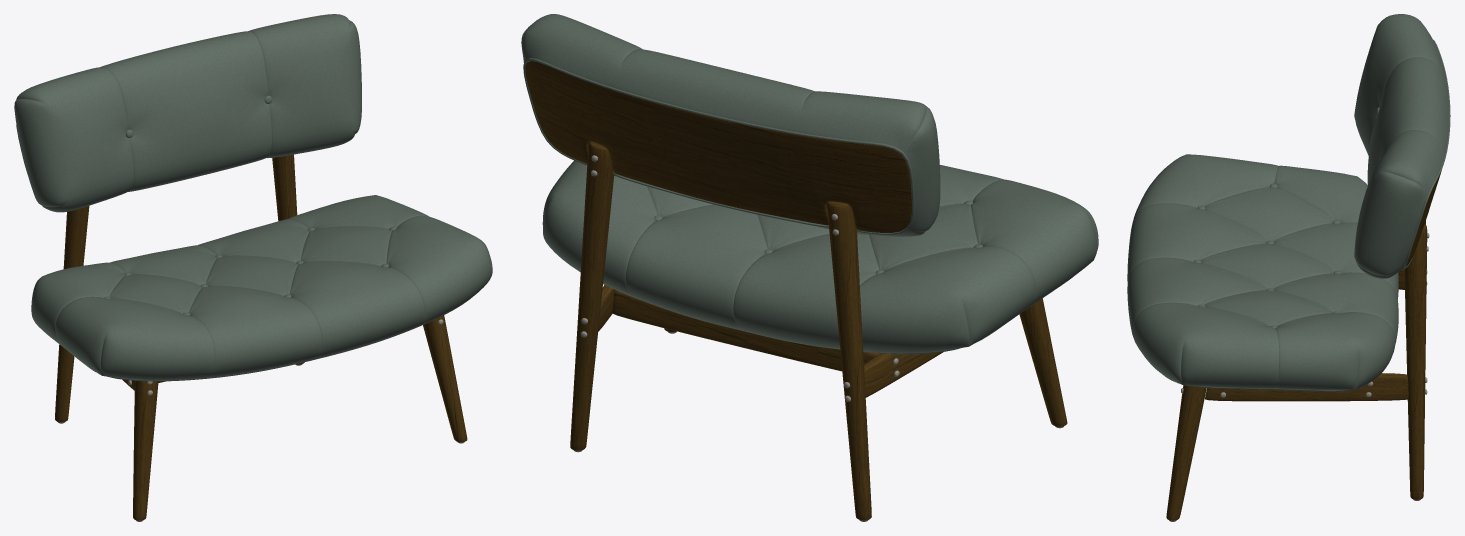
File: upholstered-chair.glb
3 views of the same model, side by side, from view 1: azimuth 30°, elevation 25°; view 2: azimuth 150°, elevation 25°; view 3: azimuth 270°, elevation 25° (orthographic). The views are drawn at different scales.
Parts seen in each view (by area): view 1: SheenChair_fabric, SheenChair_wood; view 2: SheenChair_fabric, SheenChair_wood; view 3: SheenChair_fabric, SheenChair_wood.
Boxes of the visible parts, left/top/right/bottom form: SheenChair_fabric: left=14, top=14, right=492, bottom=381; SheenChair_wood: left=55, top=154, right=467, bottom=520; SheenChair_fabric: left=521, top=14, right=1098, bottom=354; SheenChair_wood: left=525, top=61, right=1067, bottom=520; SheenChair_fabric: left=1127, top=14, right=1450, bottom=391; SheenChair_wood: left=1166, top=170, right=1441, bottom=520.
Size of the model in its own units: 0.8266 by 0.6863 by 0.5702.
Materials: 4 (3 with a texture image).
